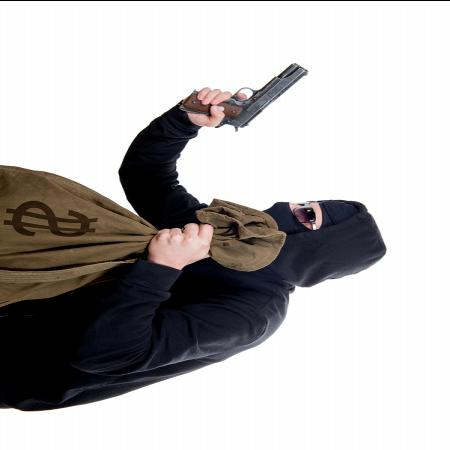Pistol: (176, 61, 312, 132)
